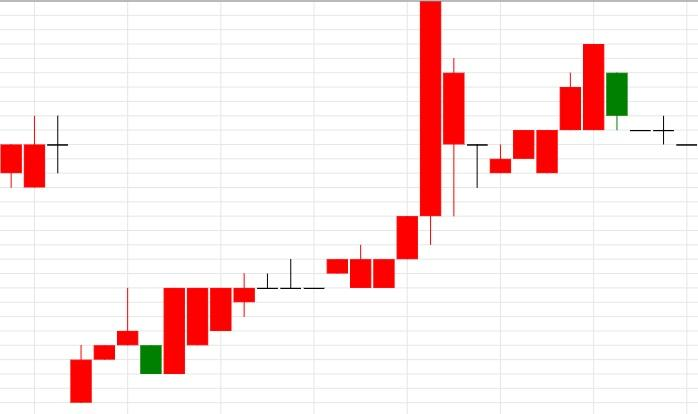three_white_soldiers_rise: (0, 116, 140, 403)
